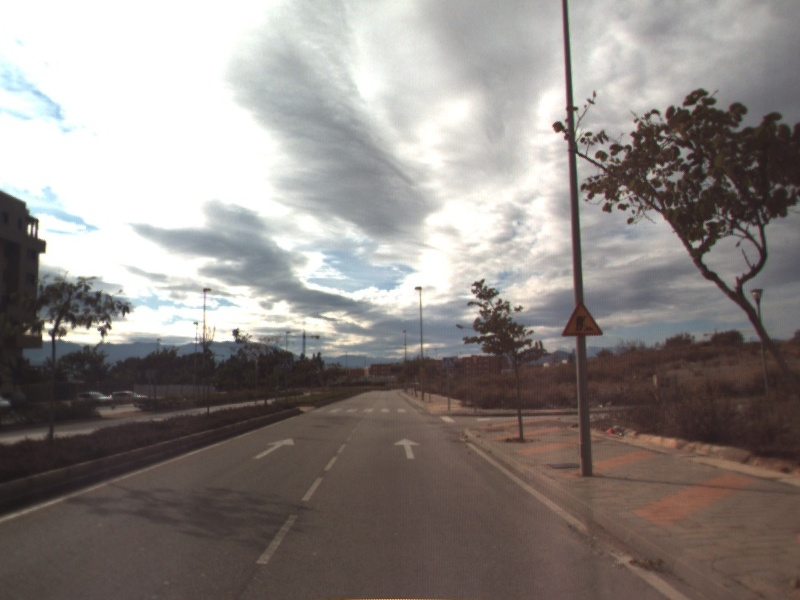STRAIGHT: (250, 436, 296, 461), (392, 436, 422, 461)
